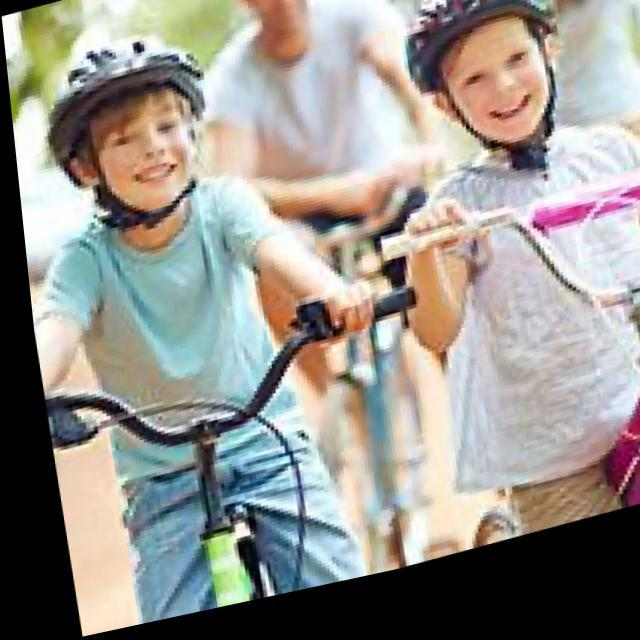Helmet: (393, 0, 586, 174), (46, 34, 211, 236)
